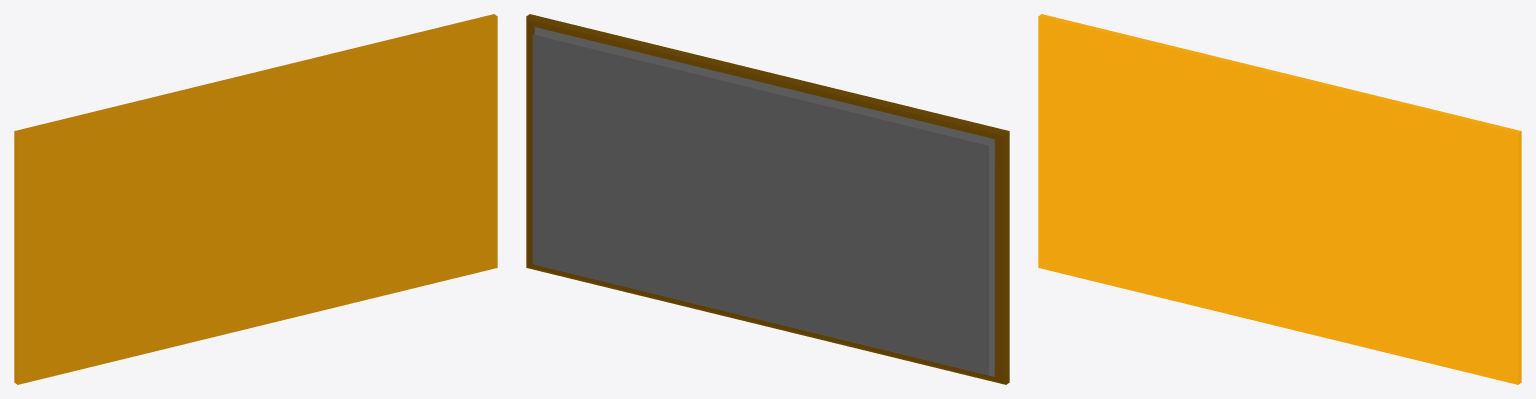
The model's file is Mirror_f9af13ff.obj.
The picture shows the model from 3 angles, left to right: view 1: azimuth 30°, elevation 25°; view 2: azimuth 150°, elevation 25°; view 3: azimuth 330°, elevation 25°; orthographic projection.
Parts seen in each view (by area): view 1: FP209:Cube.938_555e8ea4; view 2: DeferredDecalSpawnPlane_3f42c34e, FP209:Cube.938_555e8ea4, MirrorDecals_3384466f; view 3: FP209:Cube.938_555e8ea4.
Part boxes in pixels (x1,y1,x2,y2): FP209:Cube.938_555e8ea4: (14, 14, 497, 384); DeferredDecalSpawnPlane_3f42c34e: (532, 34, 988, 375); FP209:Cube.938_555e8ea4: (526, 14, 1009, 384); MirrorDecals_3384466f: (534, 27, 994, 376); FP209:Cube.938_555e8ea4: (1038, 14, 1521, 384).
Bounding box in the file's own units: 1.7 × 0.8489 × 0.055.
